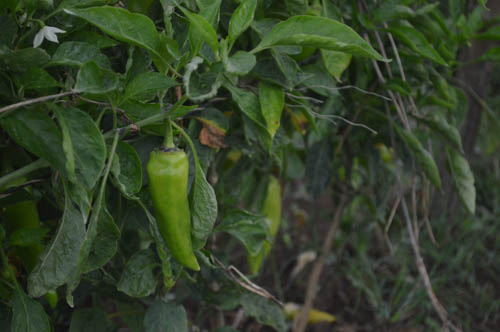ChiliPepper: (149, 150, 198, 272), (240, 180, 280, 273)
